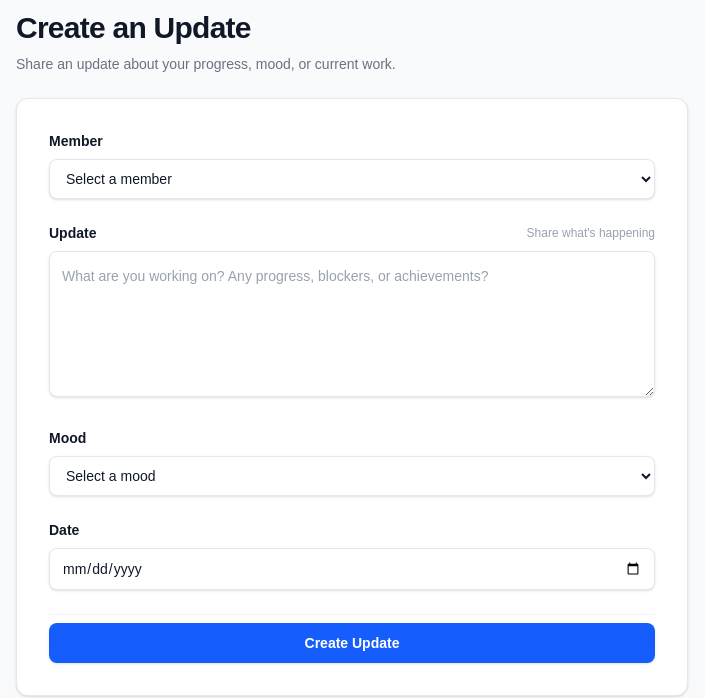
Scenario: CreateUpdate Page › shows an error when mood is missing
Select "Alice (Developer)" in the dropdown labelled "Member": coordinates (352, 179) [49,159,655,199]
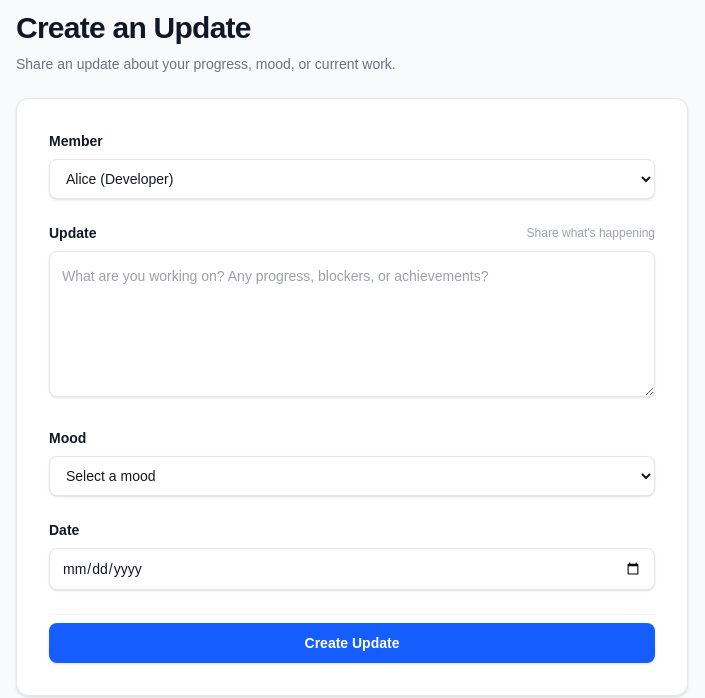
Replace the text in the text box labelled "Update" with "Finished feature A": coordinates (352, 324) [49,251,655,397]
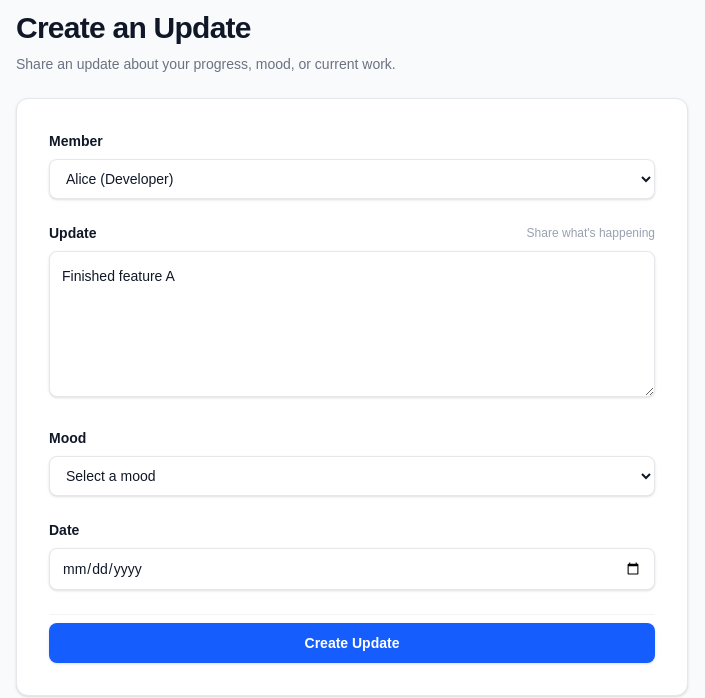
In the date field labelled "Date": coordinates (352, 569) [49,548,655,590], type "2026-09-04"
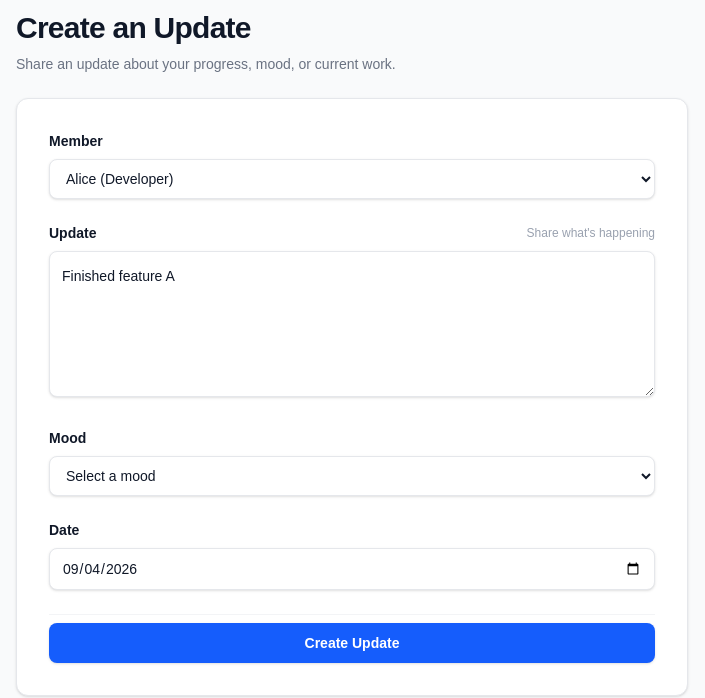
Click the button "Create Update": coordinates (352, 643) [49,623,655,663]
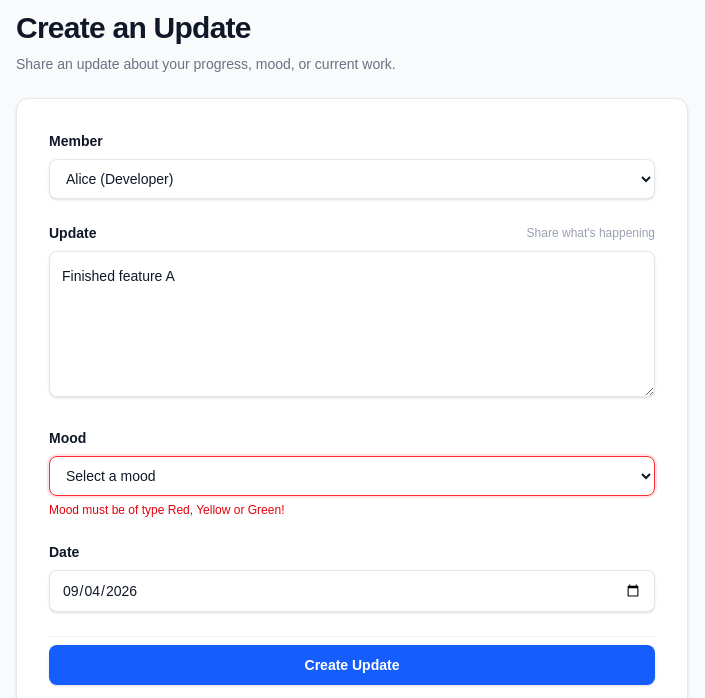
Result: the text "Mood must be of type Red, Yellow or Green!" is shown at [49,503,284,517]
